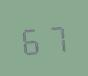seven: (44, 20, 68, 53)
six: (19, 22, 43, 55)
